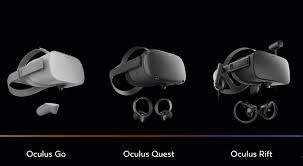oculus: (13, 48, 87, 99), (220, 49, 293, 94), (118, 49, 187, 94)
